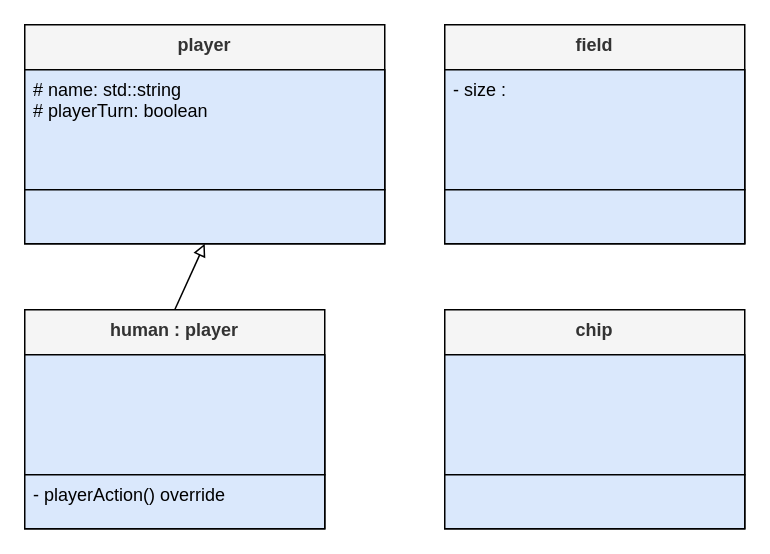
Some shapes in this 770 by 554 pixel diagram are drawn without their labels. Here are the shapes that lost their labels. From the top down, the centre of each, then its label:
At (204,216): "# virtual playerAction(playerTurn): void + playerWin() : boolean".
At (594,216): "+ fieldupdate() :".
At (594,414): "- position[] : int - shape : std::string # owner : player".
At (594,501): "# playerAction(): void".
